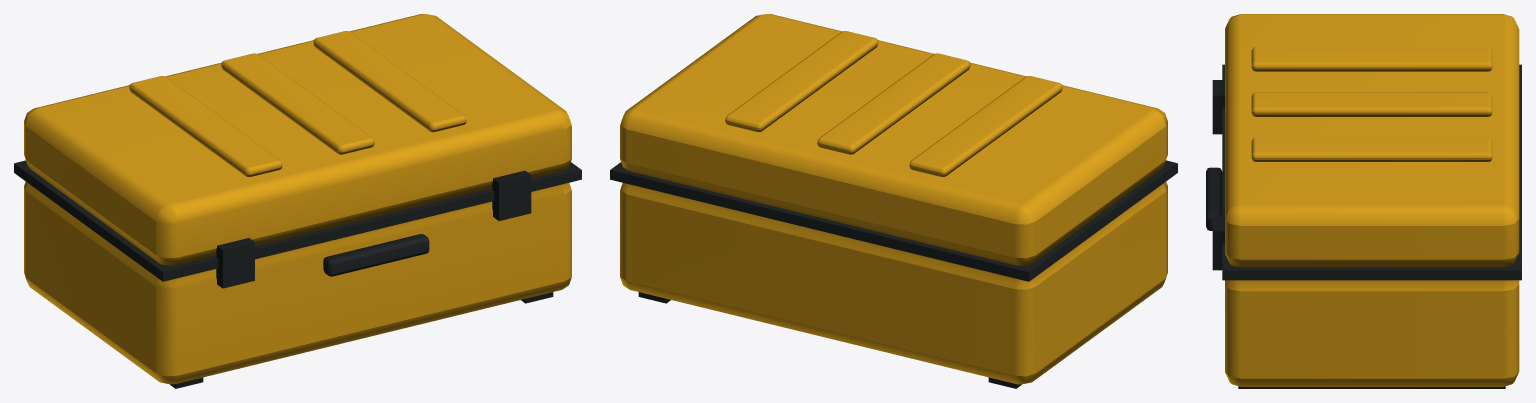
Rendered from hard_case.glb.
The picture shows the model from 3 angles, left to right: view 1: azimuth 30°, elevation 25°; view 2: azimuth 150°, elevation 25°; view 3: azimuth 270°, elevation 25°; orthographic projection.
Visible parts, largest first — view 1: HardCase; view 2: HardCase; view 3: HardCase.
Part boxes in pixels (x1,y1,x2,y2): HardCase: (14,14,581,388); HardCase: (610,14,1177,388); HardCase: (1206,14,1521,388).
Bounding box in the file's own units: 0.91 × 0.405 × 0.59.
